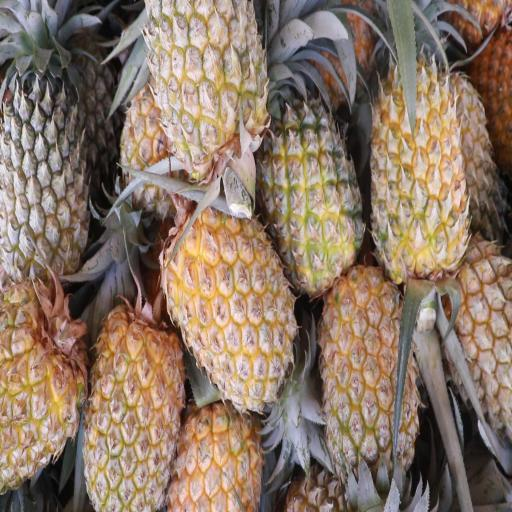------------------------------: (256, 72, 368, 310), (143, 0, 272, 201)
Pineapple - v8 v1: (162, 182, 298, 427), (366, 0, 472, 293), (83, 265, 188, 512), (316, 261, 418, 512), (0, 270, 90, 494), (435, 218, 512, 450), (162, 369, 266, 512)
